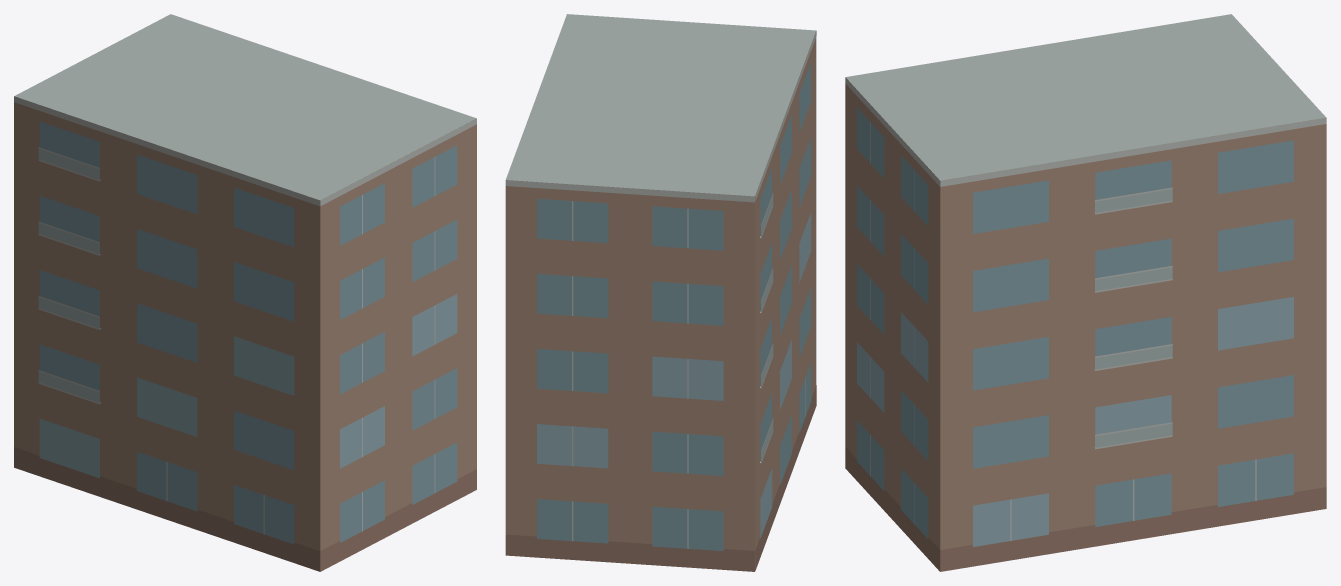
File: survey-upis-32921967.glb
The picture shows the model from 3 angles, left to right: view 1: azimuth 30°, elevation 25°; view 2: azimuth 150°, elevation 25°; view 3: azimuth 270°, elevation 25°; orthographic projection. The views are drawn at different scales.
Parts seen in each view (by area): view 1: survey-upis-32921967.tmp; view 2: survey-upis-32921967.tmp; view 3: survey-upis-32921967.tmp.
Boxes of the visible parts, x1=… form: survey-upis-32921967.tmp: x1=14, y1=14, x2=476, y2=571; survey-upis-32921967.tmp: x1=505, y1=14, x2=816, y2=571; survey-upis-32921967.tmp: x1=845, y1=14, x2=1326, y2=571.
Size of the model in its own units: 13.95 by 15.25 by 17.01.
